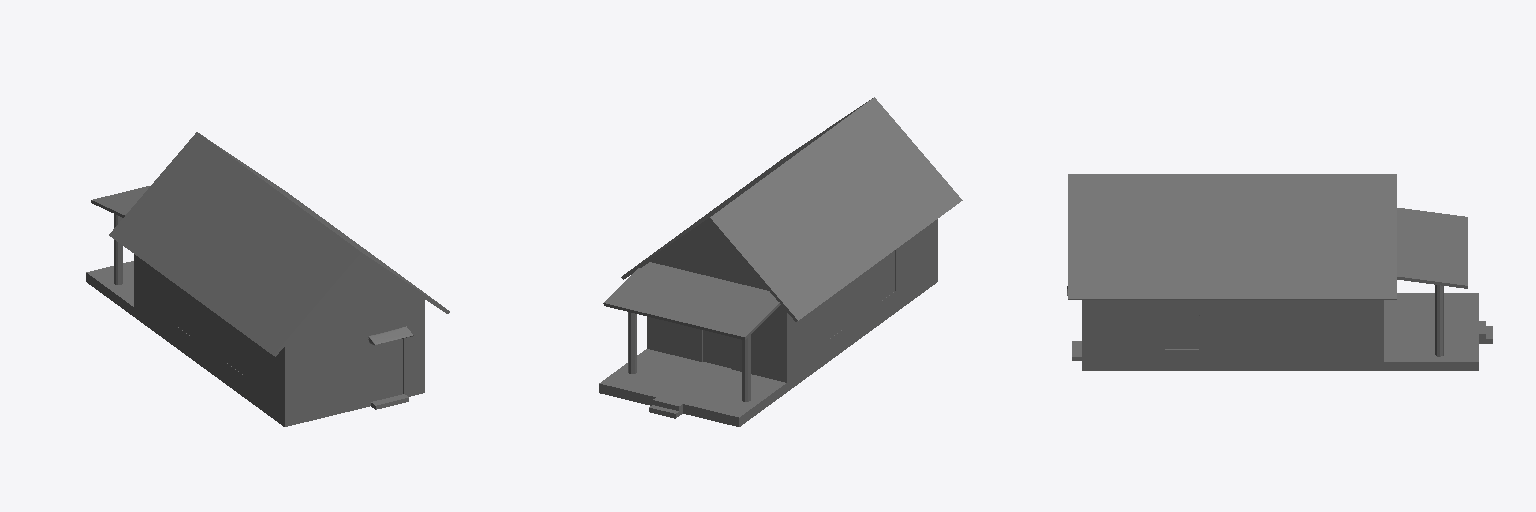
The model's file is FarmhouseTri.obj.
The picture shows the model from 3 angles: view 1: azimuth 30°, elevation 25°; view 2: azimuth 150°, elevation 25°; view 3: azimuth 270°, elevation 25°; orthographic projection.
Parts seen in each view (by area): view 1: polySurface73; view 2: polySurface73; view 3: polySurface73.
Boxes of the visible parts, x1=… form: polySurface73: x1=86, y1=132, x2=449, y2=426; polySurface73: x1=599, y1=97, x2=962, y2=426; polySurface73: x1=1067, y1=174, x2=1492, y2=370.
Size of the model in its own units: 24.28 by 21.28 by 50.36.